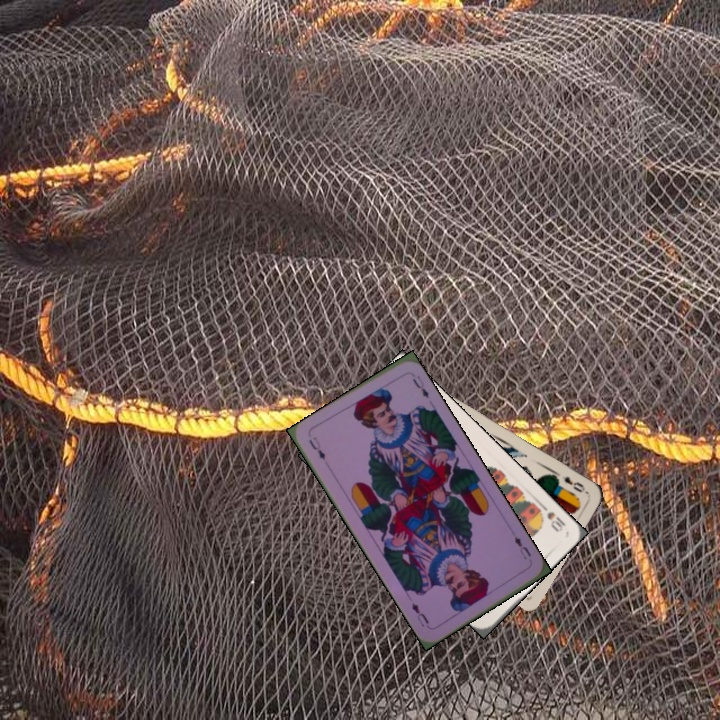EO: (559, 472, 590, 496)
EU: (304, 432, 328, 463), (510, 532, 534, 562)
S10: (533, 499, 568, 535)
